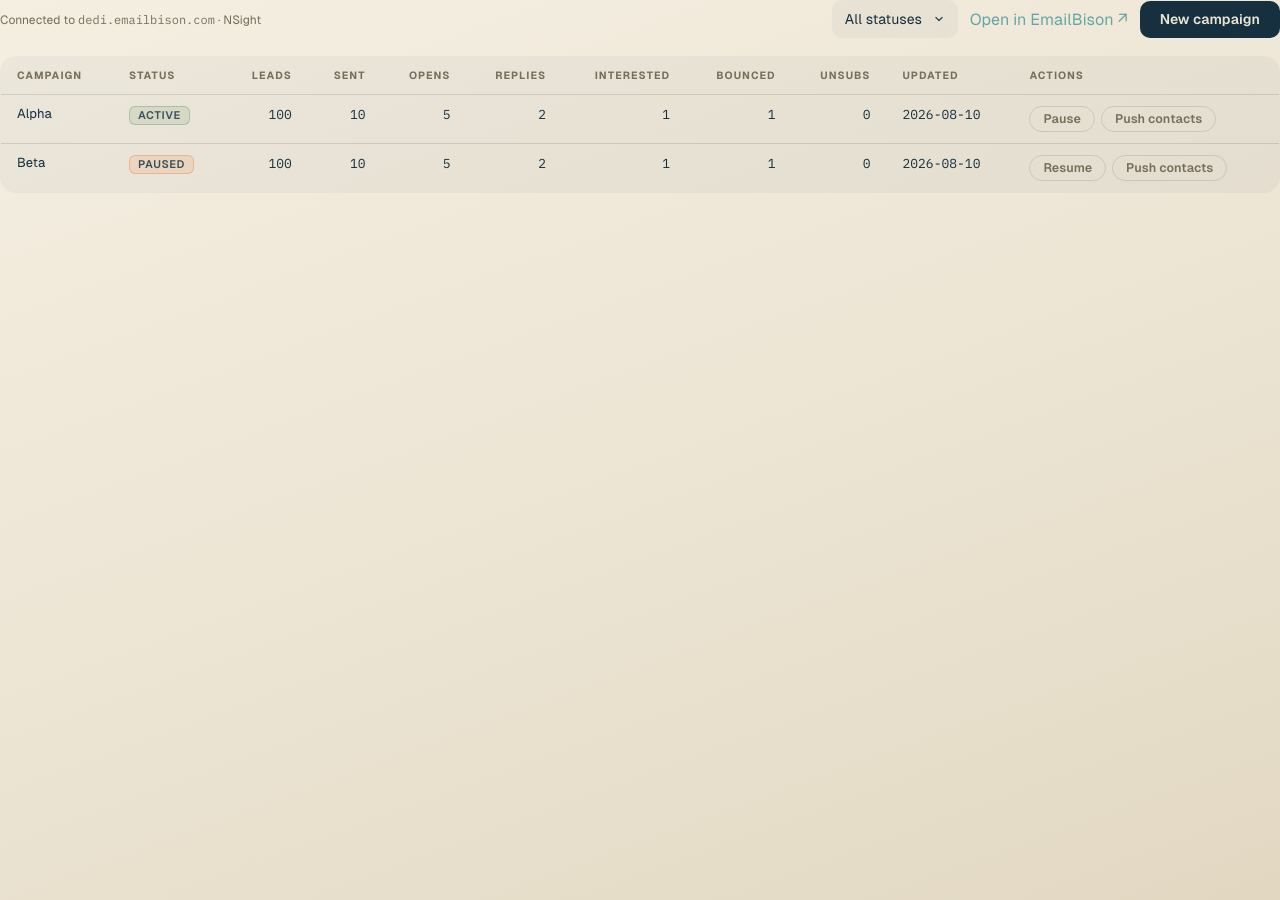
Test: EmailCenter dashboard › Push contacts: picks a CSV list, POSTs it, reports counts + the ~5-minute note
Expected: the text "Alpha" is shown, [1,94,113,144]
Click the button "Push contacts" in the row of "Alpha": (1159, 119) [1101,106,1216,132]
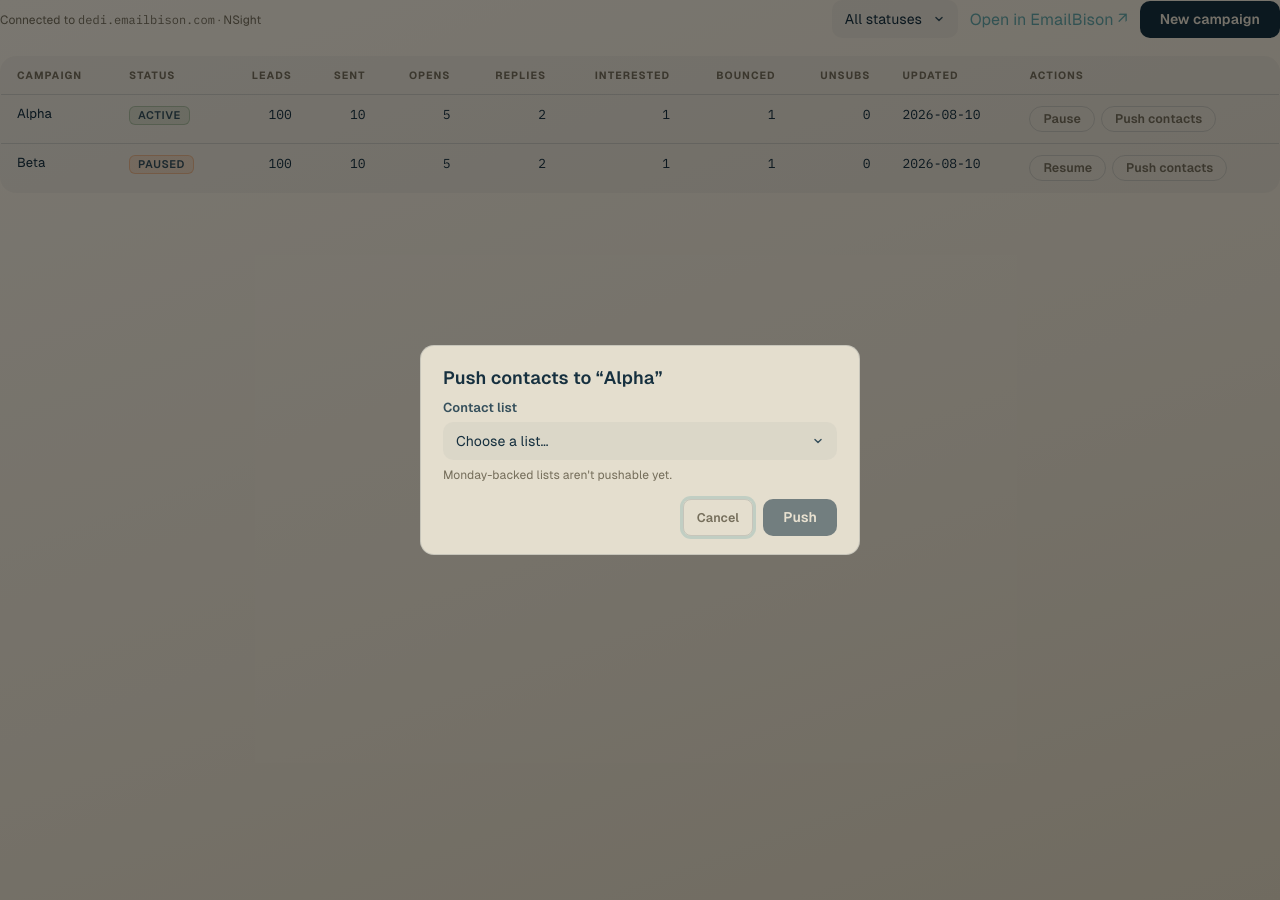
Expected: the heading "Push contacts to “Alpha”" is shown, [443,367,662,388]
Expected: the text "Monday-backed lists aren't pushable yet." is shown, [443,468,672,482]
Expected: the button "Push" is disabled, [763,499,837,536]
Select "August CSV — 42 contacts" in the dropdown labelled "Contact list": (640, 441) [443,422,837,460]
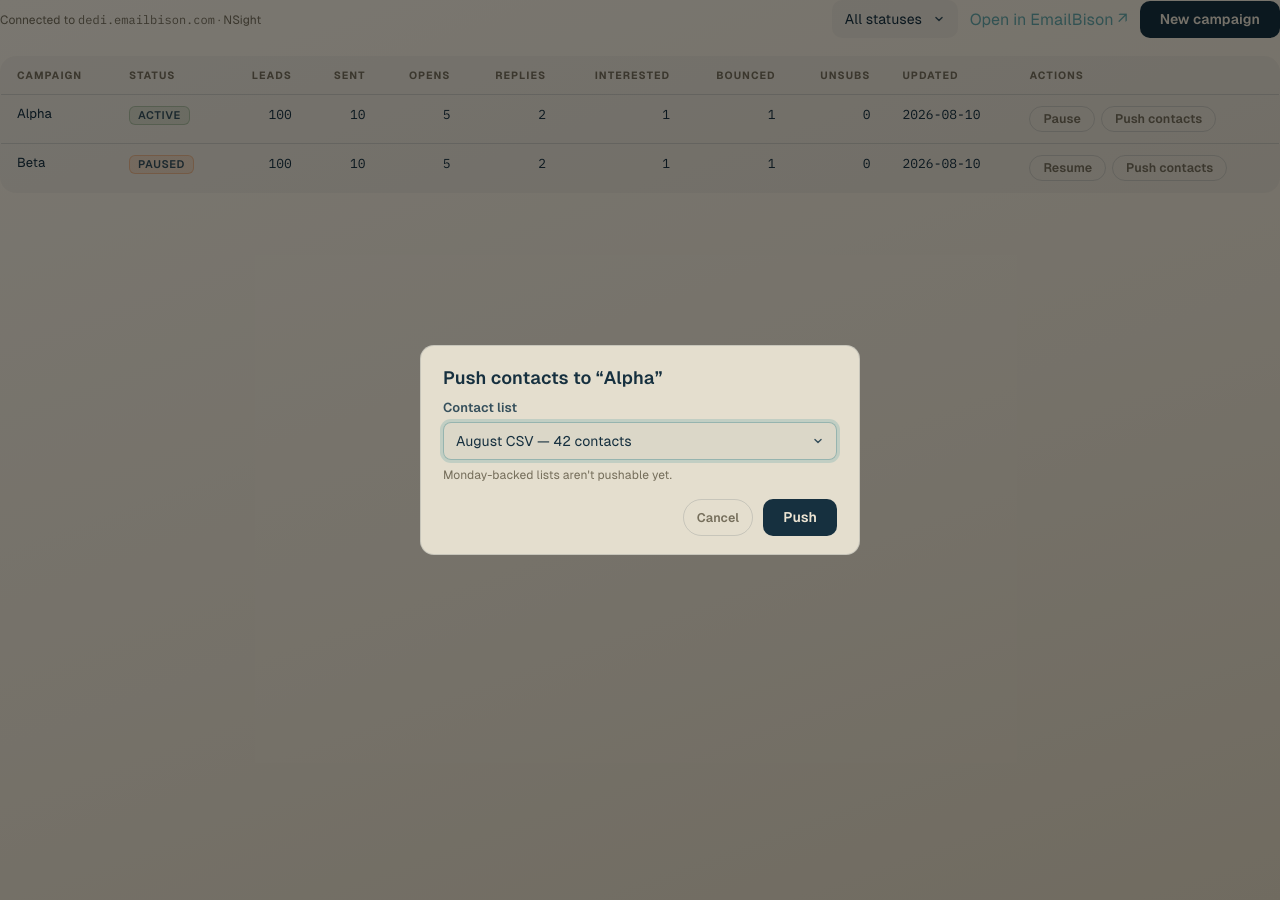
Click the button "Push": (800, 518) [763,499,837,536]
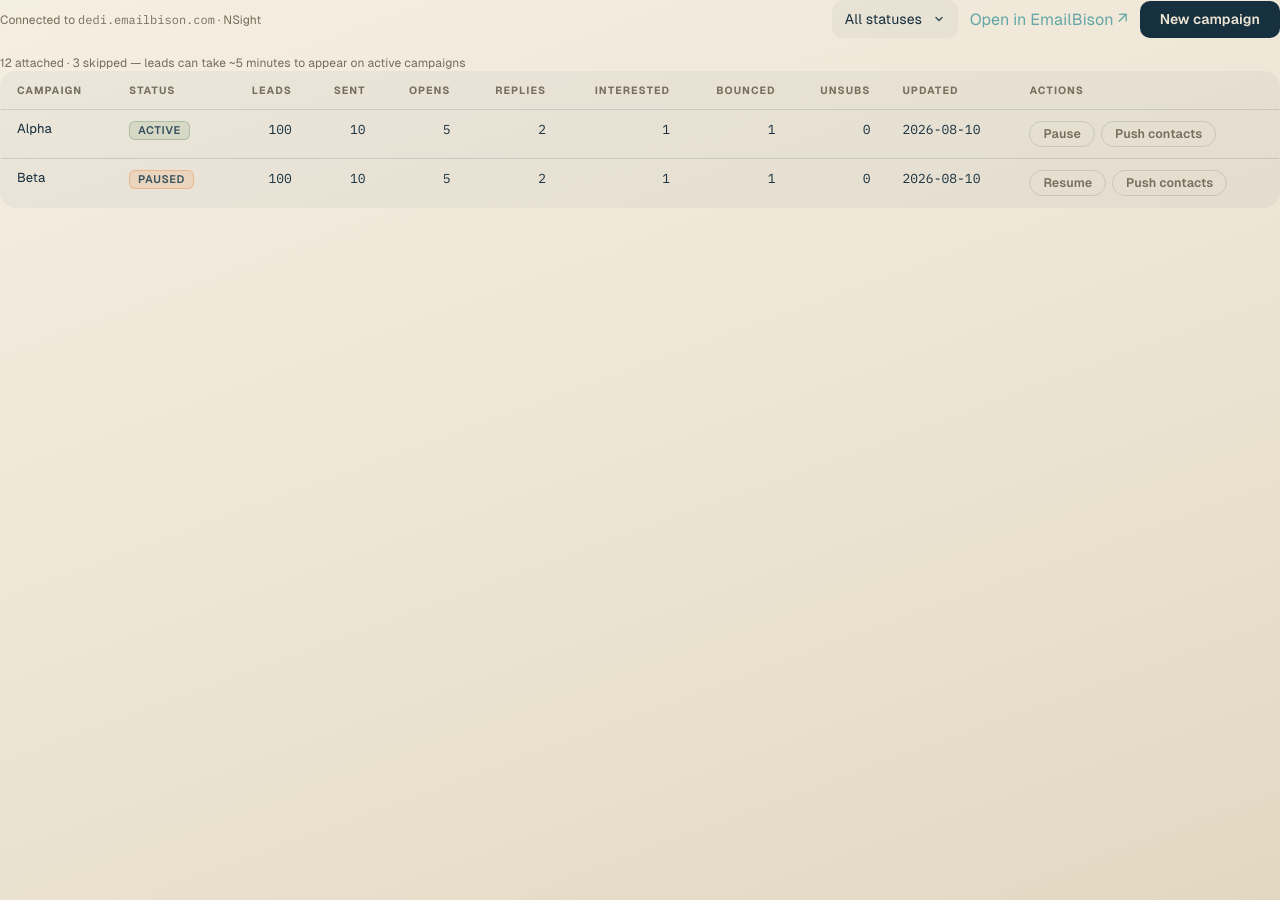
Expected: the text "12 attached · 3 skipped — leads can take ~5 minutes to appear on active campaigns" is shown, [0,56,466,70]
Expected: the dialog is gone
